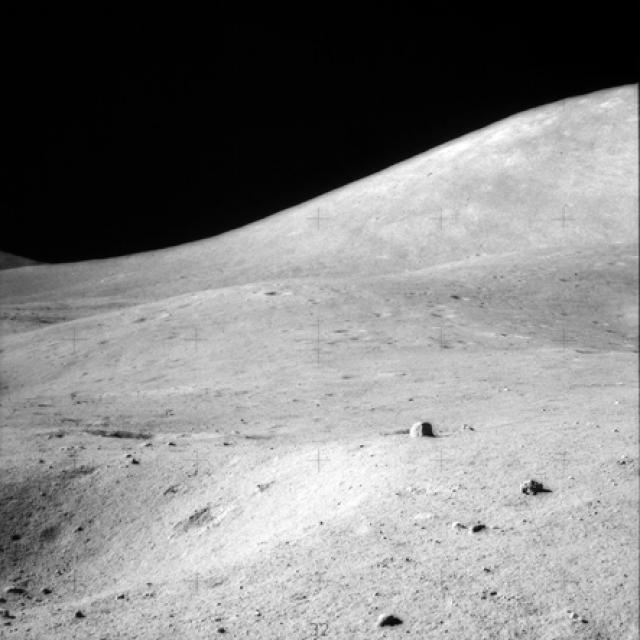crater: (0, 452, 372, 610), (77, 415, 168, 446)
rock: (405, 411, 438, 442), (382, 604, 412, 630), (516, 476, 550, 497)
